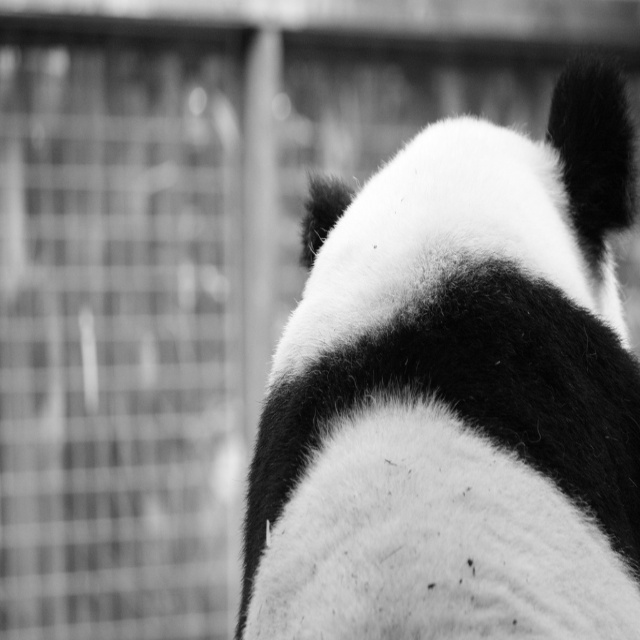Panda: (233, 61, 640, 639)
